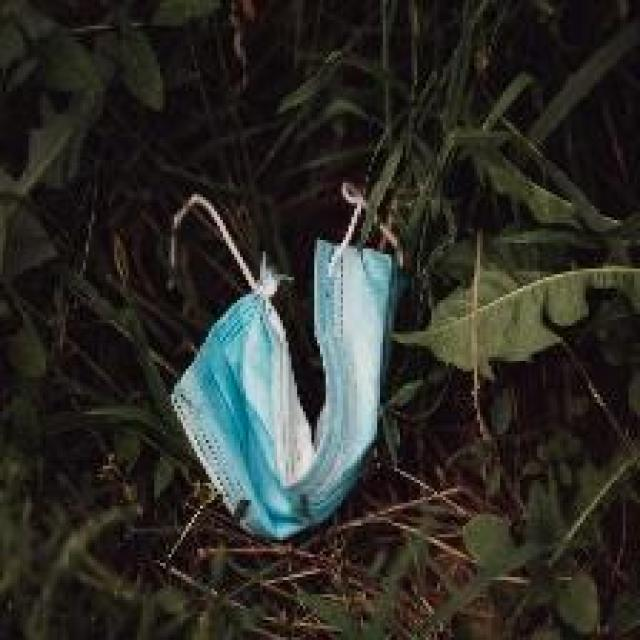Mask: (170, 222, 410, 567)
